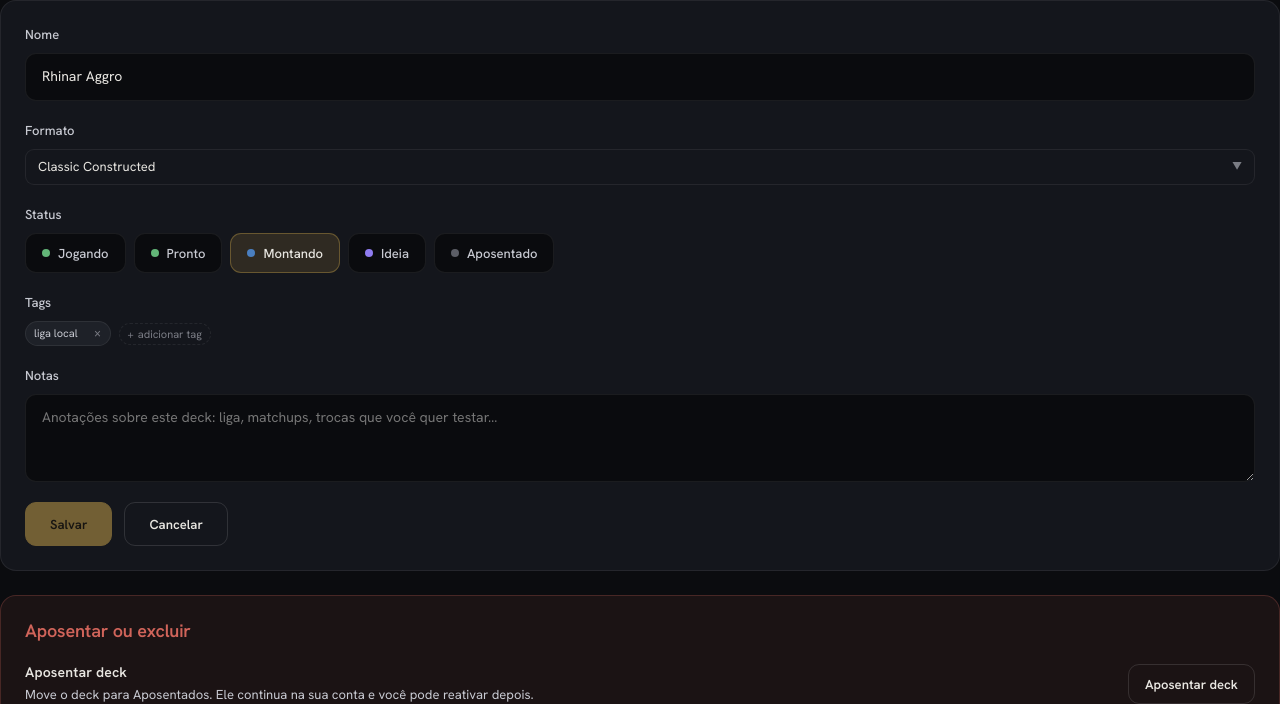
Test: DeckEditForm: saving › stays on the screen and shows an error when the save fails
The width and height of the screenshot is (1280, 704).
Replace the text in the field with test id "deck-edit-name" with "Rhinar Control" at point(640, 77), box left=25, top=53, right=1255, bottom=101
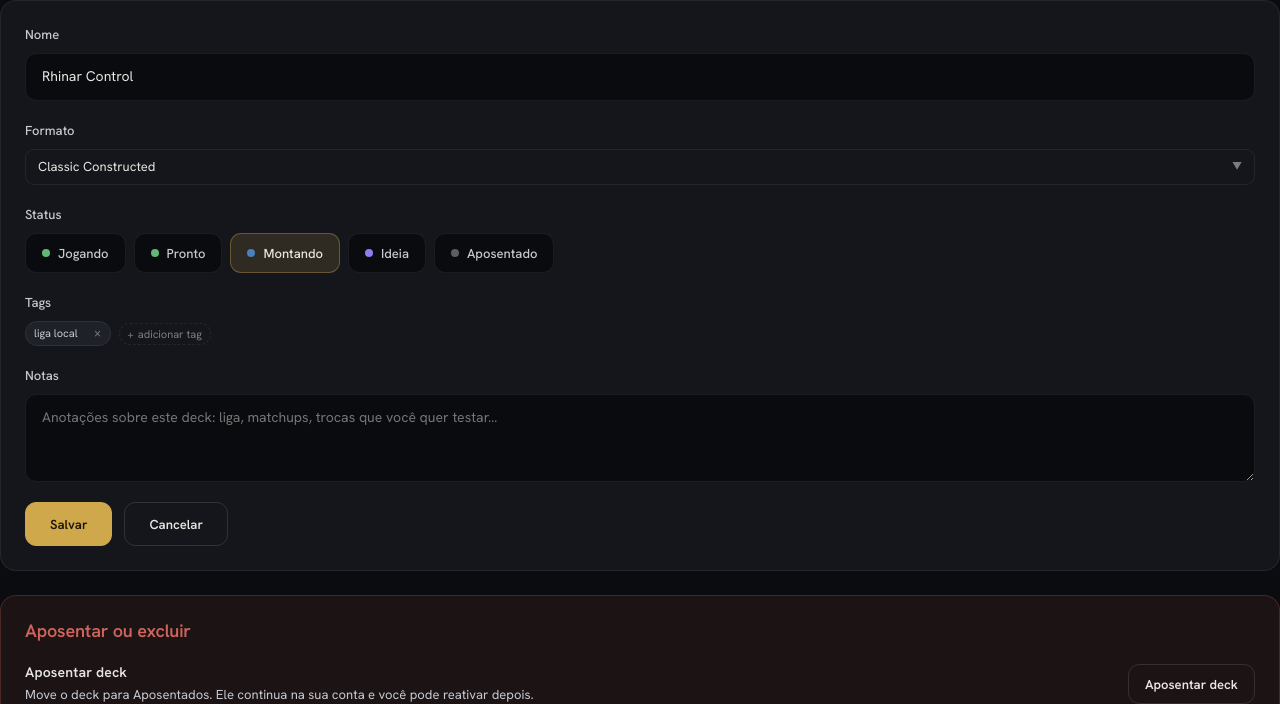
Click the button with test id "deck-edit-save" at point(69, 524), box left=25, top=502, right=112, bottom=546
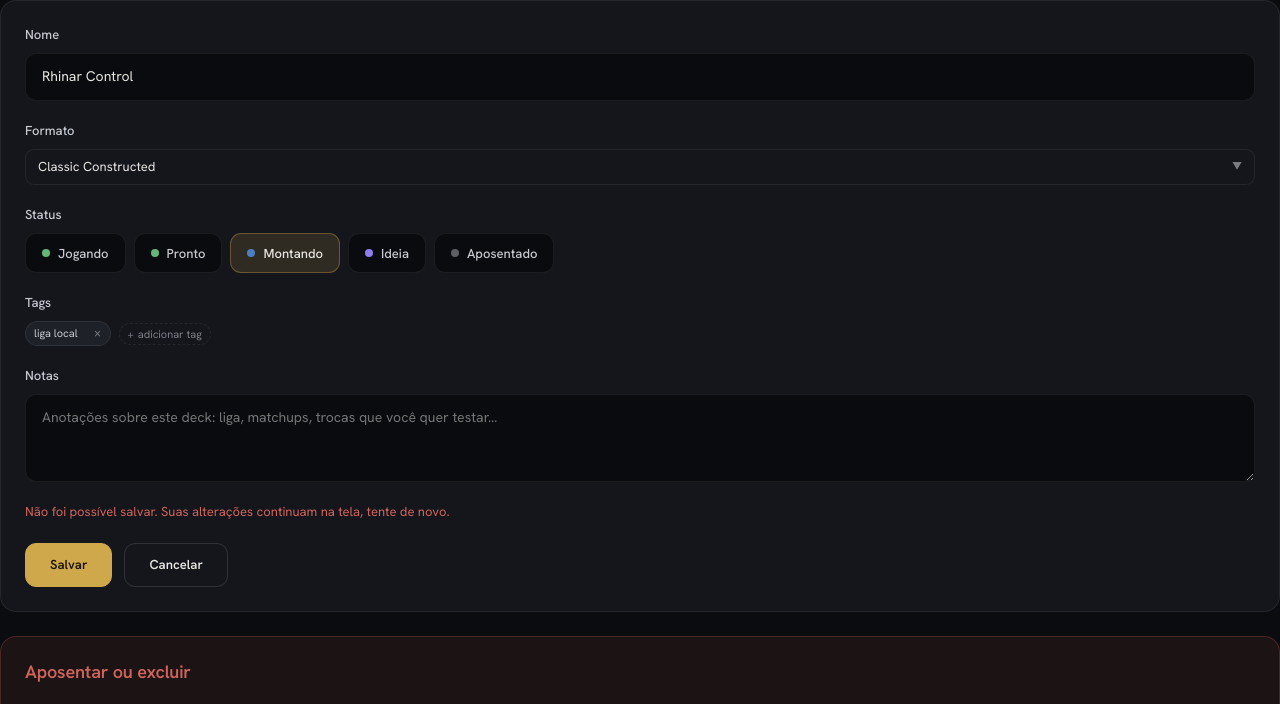
Check: the message with test id "deck-edit-save-error" shows "Não foi possível salvar", box left=25, top=503, right=450, bottom=520
